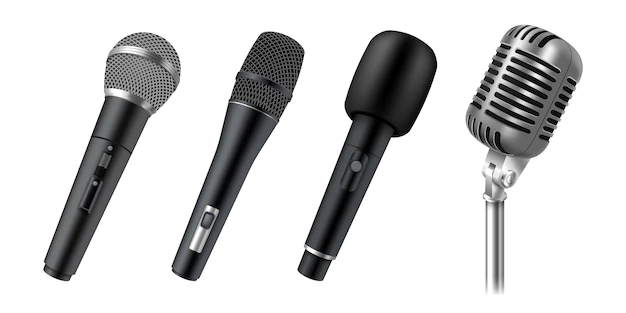microphone: (296, 28, 439, 282), (42, 30, 183, 283), (170, 30, 308, 282), (462, 22, 585, 298)
